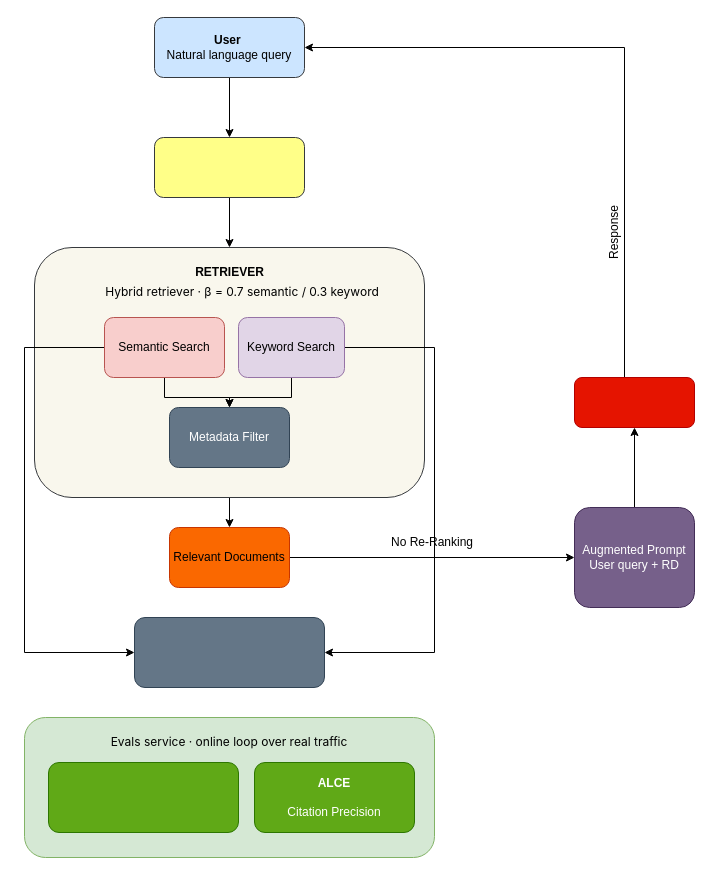
This 712x875 diagram has some shape labels left out. The box of each missing label's shape, as (x1, y1, x2, y2) in pixels:
API / Orchestrator FastAPI - Coordinates Pipeline: (154, 136, 304, 198)
Knowledge Base Fixed Chunking: (134, 616, 324, 688)
LLM: (574, 376, 694, 428)
RAGAS Precision- Recall: (48, 762, 238, 832)
